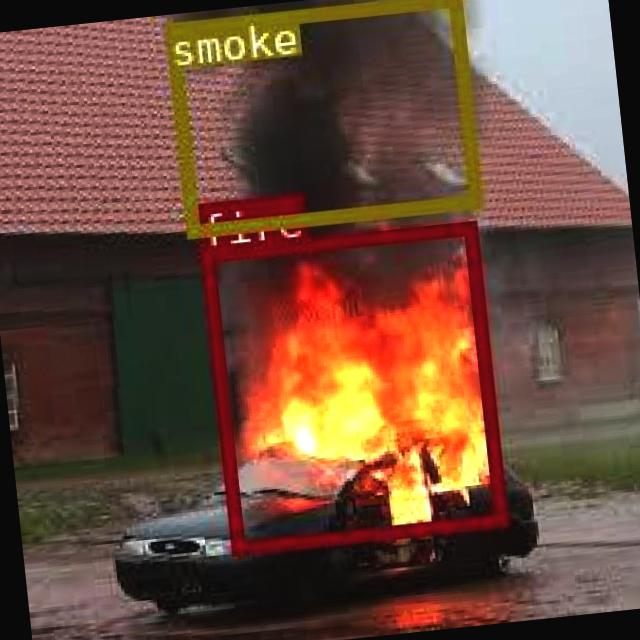fire: (198, 218, 505, 552)
smoke: (163, 0, 480, 234)
